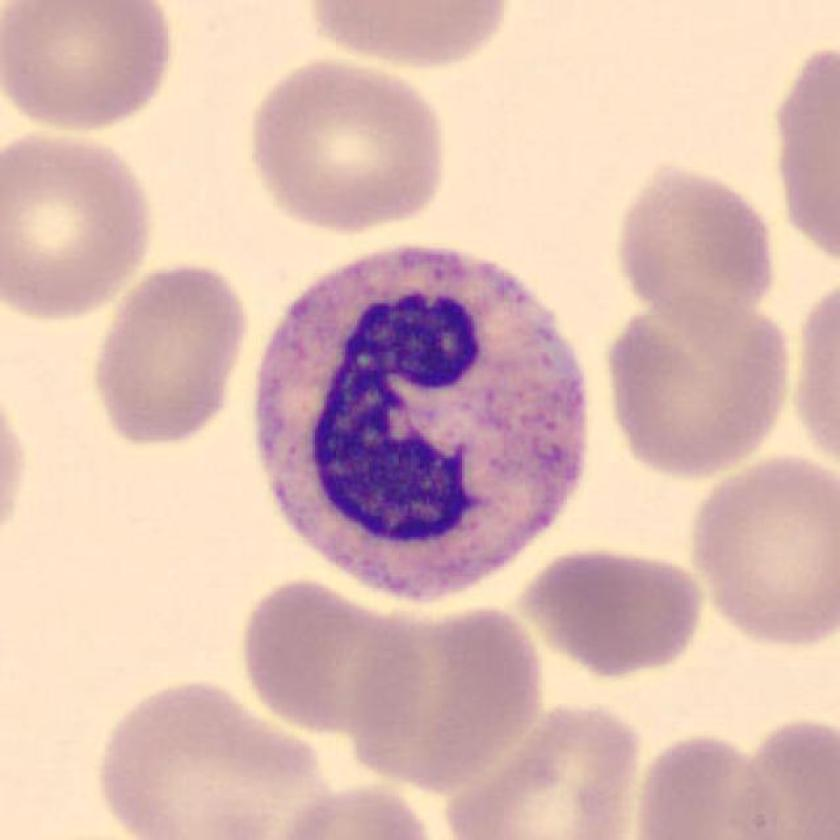neutrophil: (254, 249, 589, 598)
